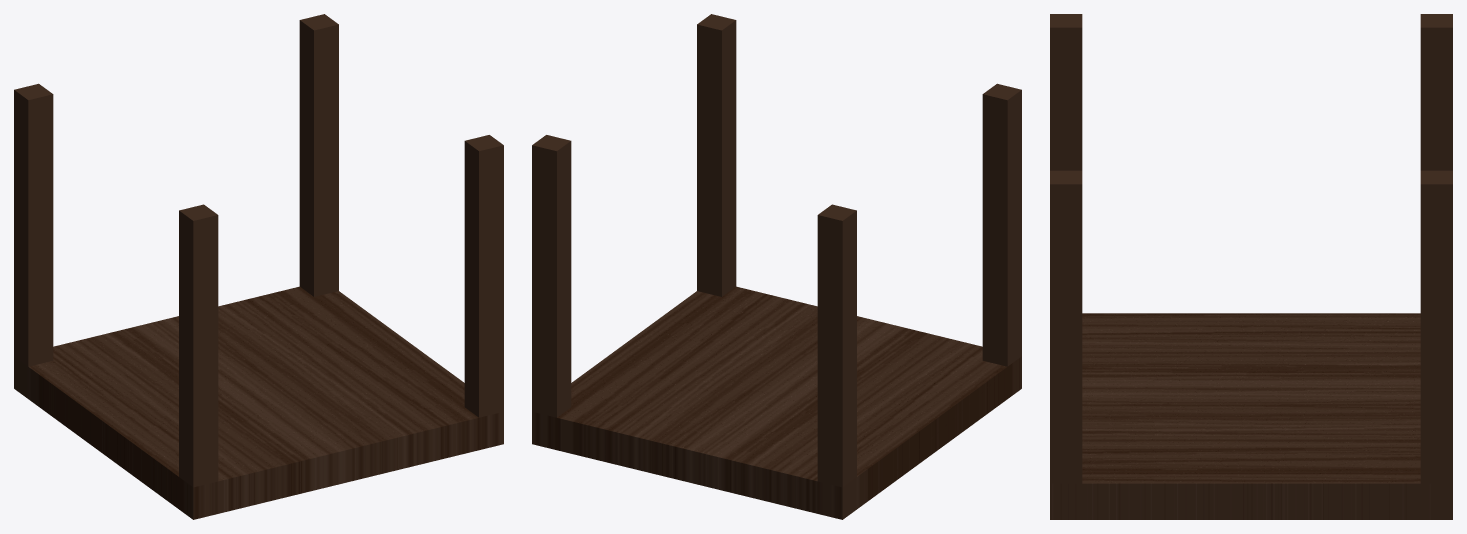
The picture shows the model from 3 angles, left to right: view 1: azimuth 30°, elevation 25°; view 2: azimuth 150°, elevation 25°; view 3: azimuth 270°, elevation 25°; orthographic projection. The views are drawn at different scales.
Parts seen in each view (by area): view 1: box_2_2_2; view 2: box_2_2_2; view 3: box_2_2_2.
Part boxes in pixels (x1,y1,x2,y2): box_2_2_2: (14, 14, 503, 519); box_2_2_2: (532, 14, 1021, 519); box_2_2_2: (1050, 14, 1452, 519).
Size of the model in its own units: 0.1 by 0.092 by 0.1.
Materials: 2 (1 with a texture image).
